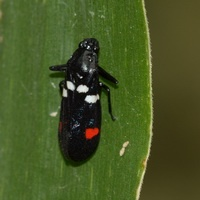insect: (49, 38, 117, 160)
